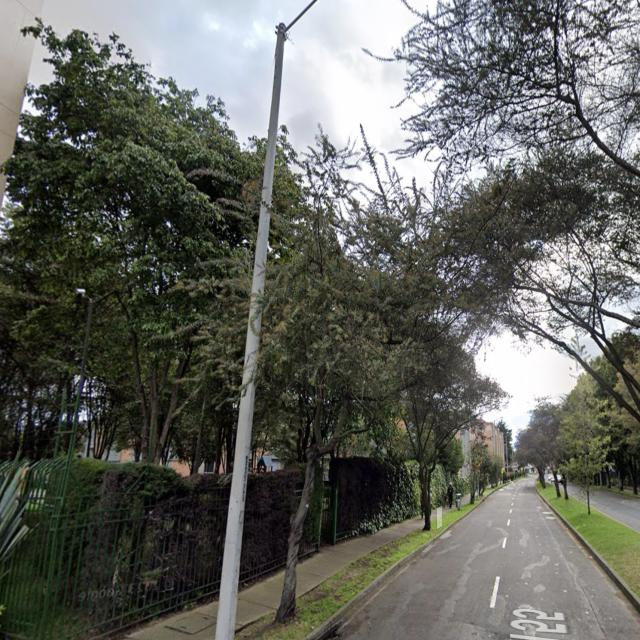Poste: (216, 24, 291, 640)
